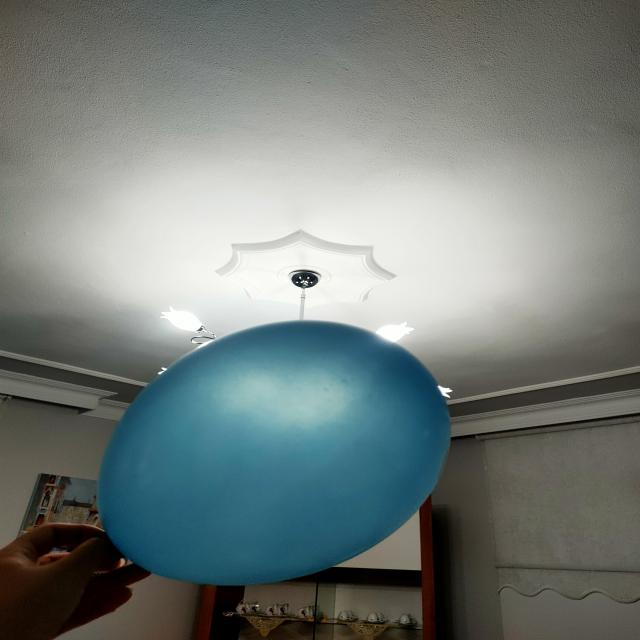blue: (96, 323, 451, 590)
